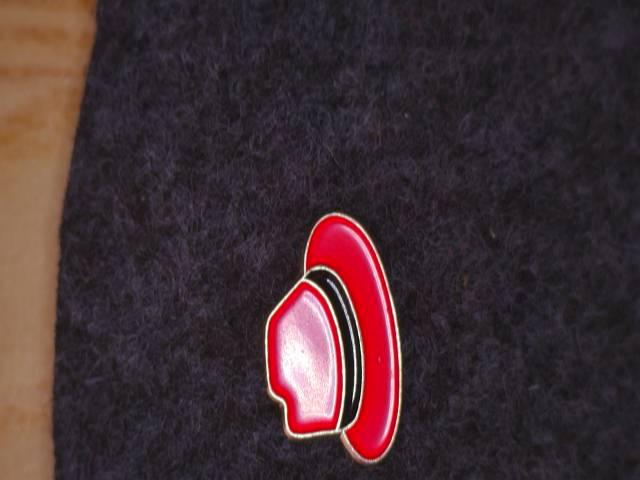Red-Hat: (248, 190, 437, 475)
